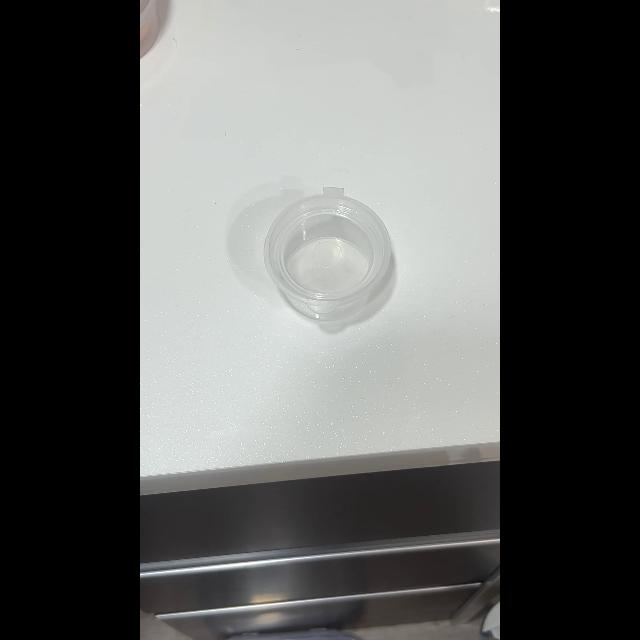clean: (262, 187, 392, 321)
